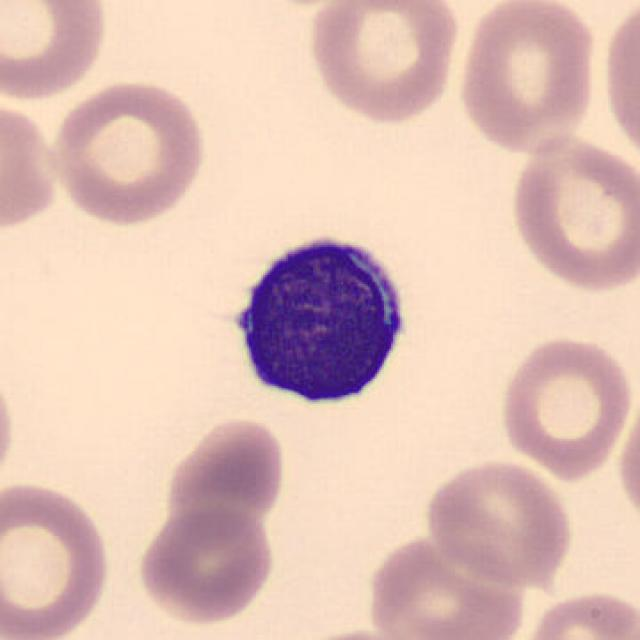Lymphocyte: (213, 220, 420, 416)
RBC: (44, 76, 210, 227), (453, 0, 601, 157), (505, 130, 638, 294), (496, 332, 635, 482), (304, 0, 464, 127), (421, 457, 576, 587), (0, 476, 116, 640), (133, 502, 279, 628), (363, 532, 528, 640), (162, 413, 290, 534), (0, 0, 112, 104), (0, 93, 64, 238), (597, 0, 639, 169), (516, 587, 638, 640), (613, 376, 640, 534), (0, 358, 20, 499), (279, 624, 434, 640)
